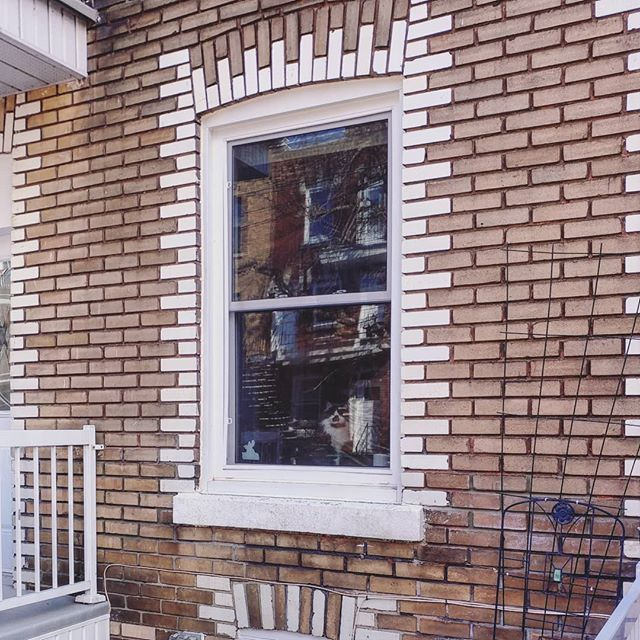window: (196, 99, 408, 483)
